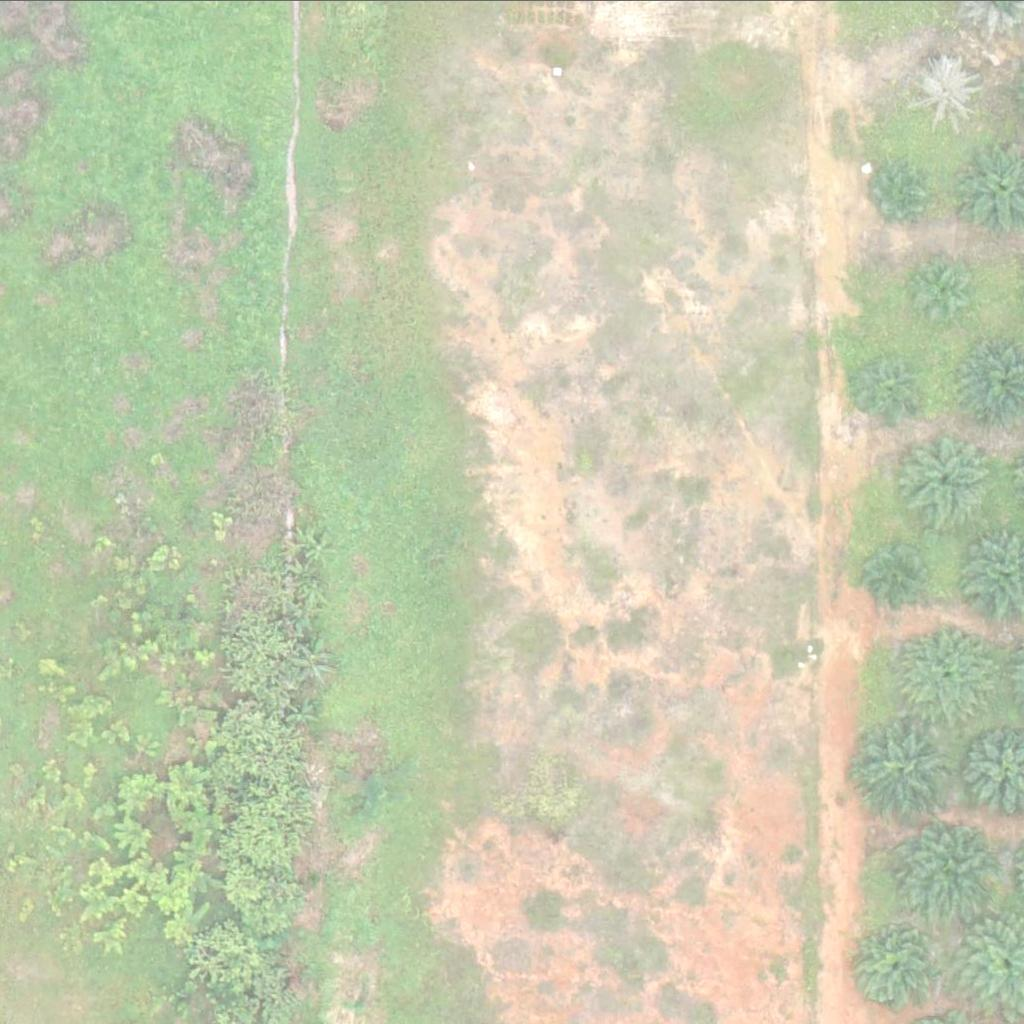Kelapa_Sawit: (849, 710, 962, 822), (904, 814, 1005, 914), (901, 620, 1002, 720), (897, 427, 998, 527), (852, 923, 940, 1010), (908, 54, 984, 129), (860, 355, 923, 418), (907, 258, 970, 321), (862, 538, 925, 601), (868, 163, 930, 225)
